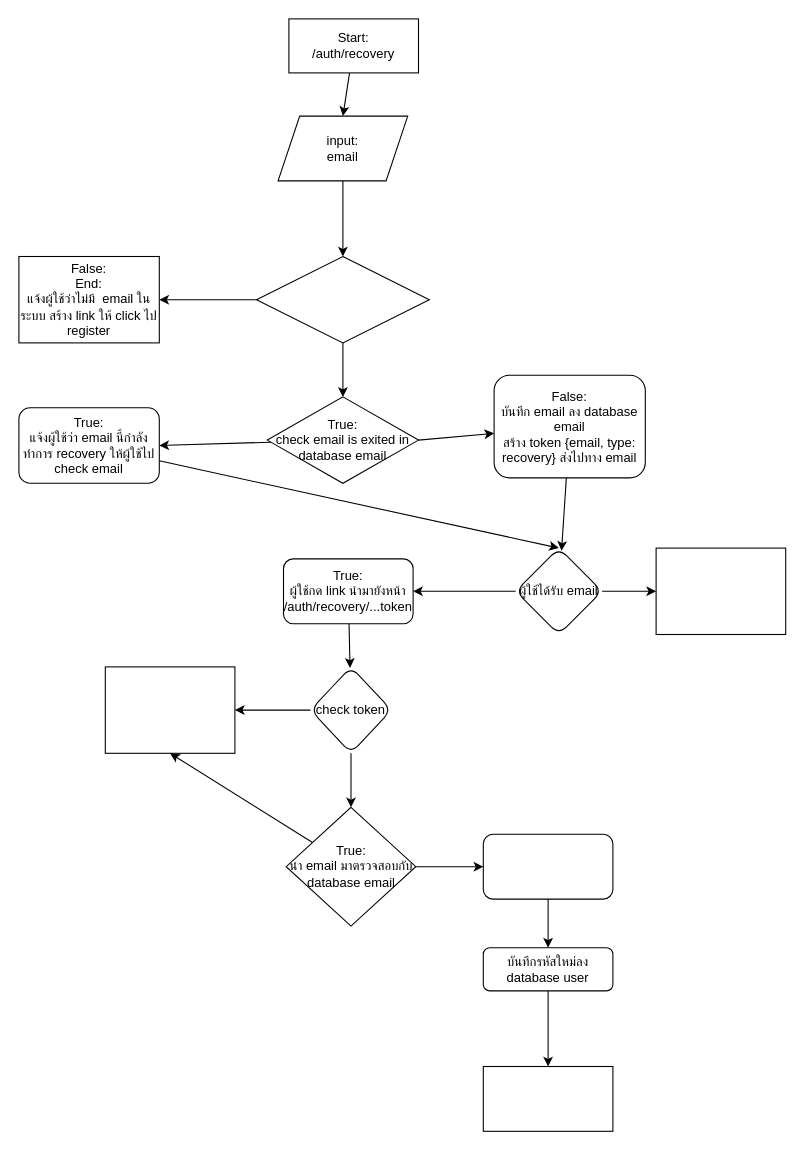
This 805x1150 diagram has some shape labels left out. The centre of each missing label's shape, as x and y in pixels:
check email is exited in database user: the point at 342,299
End: นำผู้ใช้เข้าสู่หน้า Dashboard: the point at 547,1098
False: End: ตรวจสอบความผิดพลาดของระบบส่ง email: the point at 720,590
False: End: แจ้งผู้ใช้ว่า token ผิดพลาด ให้ไป recovery หรือ register ใหม่: the point at 169,709
True: สร้าง Form ให้ผู้ใช้สร้างรหัสผ่านใหม่: the point at 547,866
